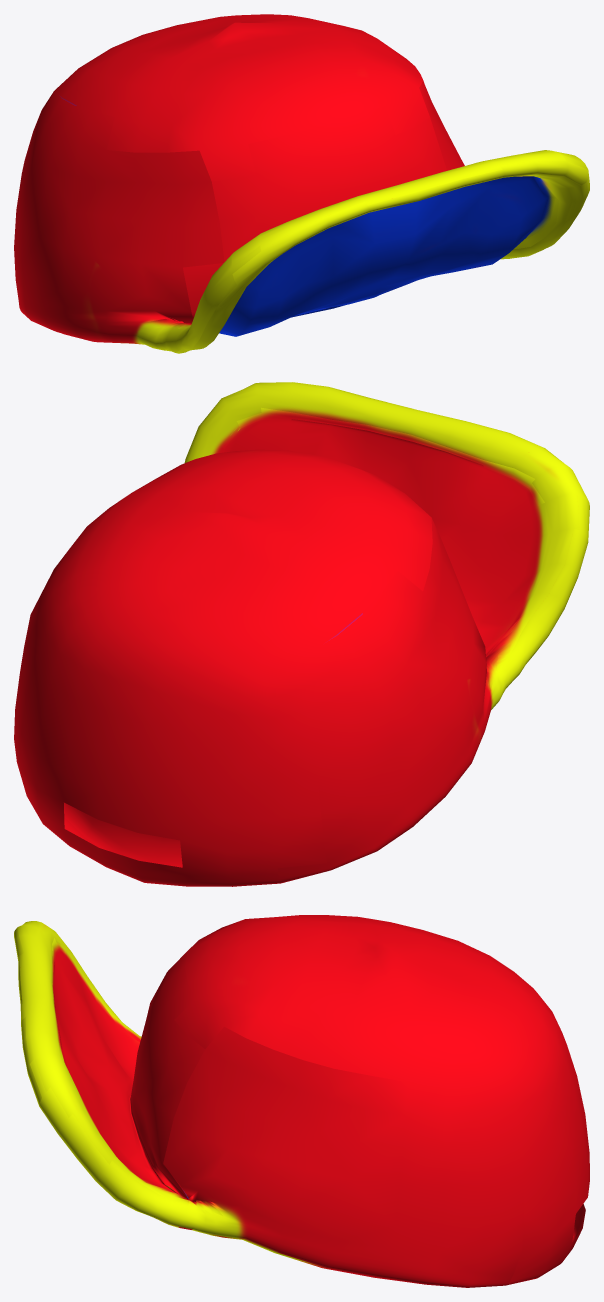
File: Flipped-Brim-Red-v2.glb
3 views of the same model, one above another, from view 1: azimuth 30°, elevation 25°; view 2: azimuth 150°, elevation 25°; view 3: azimuth 270°, elevation 25° (orthographic).
Parts seen in each view (by area): view 1: Flipped-Brim-Red-v2; view 2: Flipped-Brim-Red-v2; view 3: Flipped-Brim-Red-v2.
Part boxes in pixels (left/top/right/bottom): Flipped-Brim-Red-v2: left=14, top=14, right=589, bottom=353; Flipped-Brim-Red-v2: left=14, top=382, right=589, bottom=886; Flipped-Brim-Red-v2: left=14, top=915, right=589, bottom=1287.
Size of the model in its own units: 0.426 by 0.3071 by 0.5373.
Materials: 1 (1 with a texture image).
